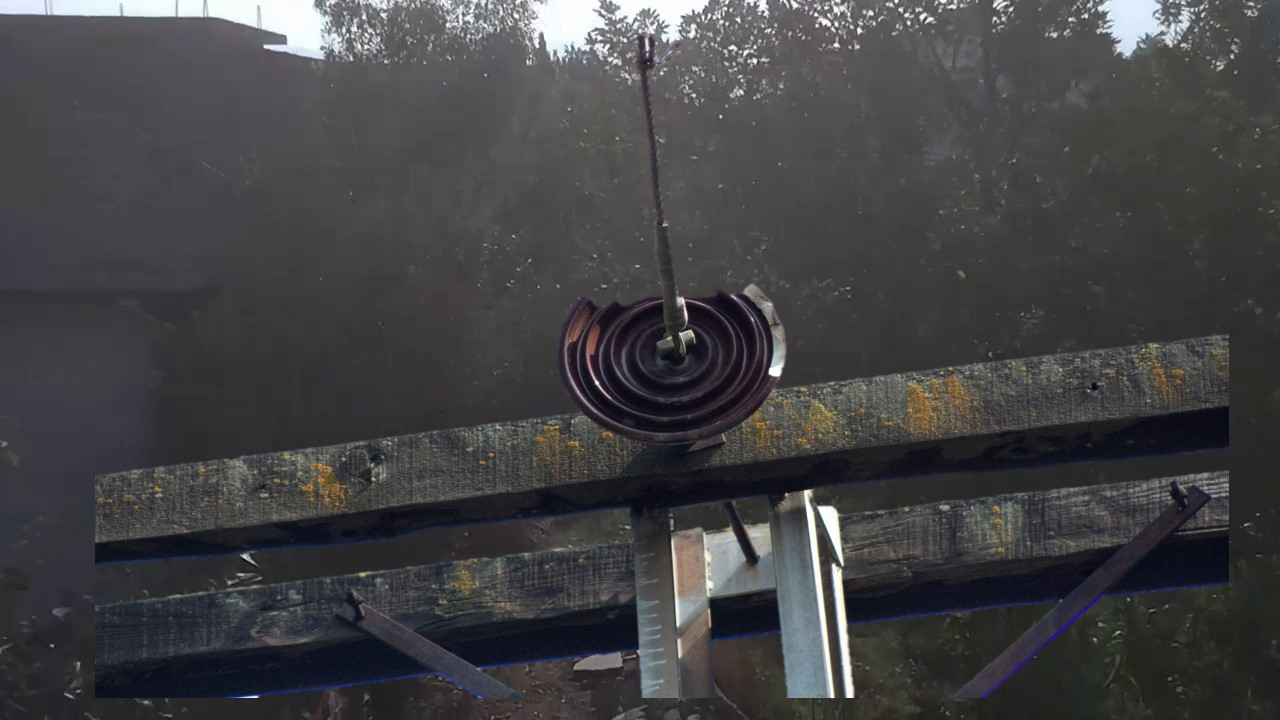defect_disc: (556, 275, 792, 451)
